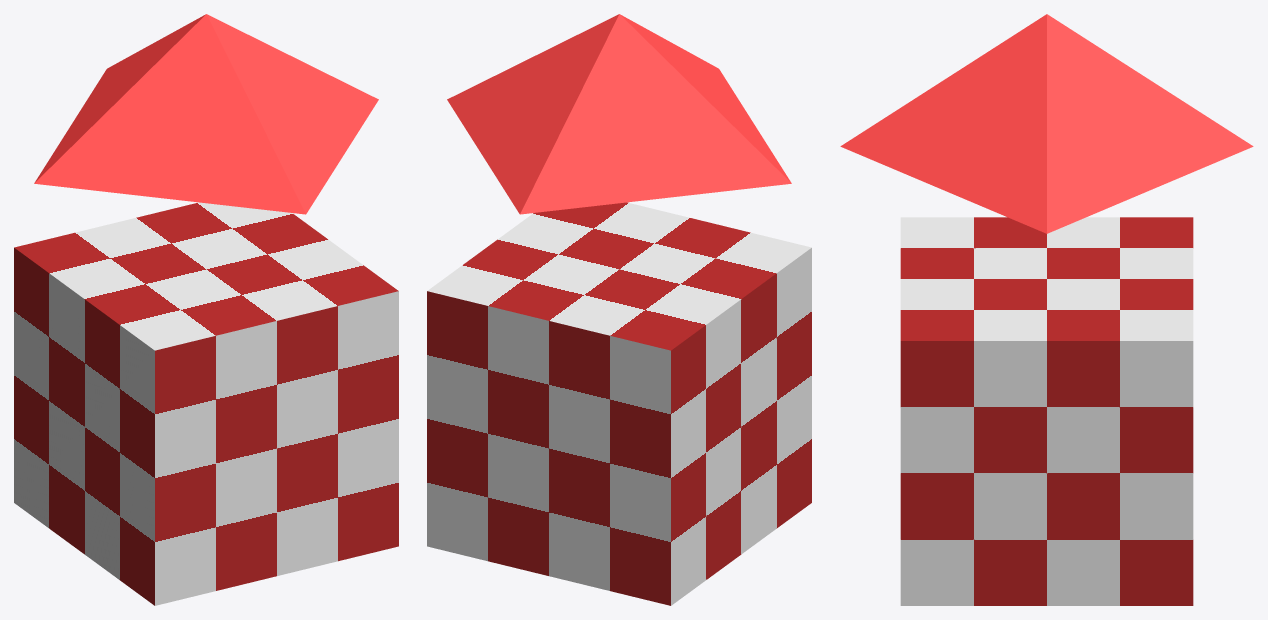
The model's file is tower.glb.
3 renders of one model, left to right at view 1: azimuth 30°, elevation 25°; view 2: azimuth 150°, elevation 25°; view 3: azimuth 270°, elevation 25°, orthographic. The views are drawn at different scales.
Parts seen in each view (by area): view 1: Base, Roof; view 2: Base, Roof; view 3: Base, Roof.
Boxes of the visible parts, x1,y1,x2,y2 form: Base: (14,202,398,605); Roof: (34,14,378,214); Base: (427,202,811,605); Roof: (447,14,791,214); Base: (900,217,1193,605); Roof: (840,14,1253,233).
Bounding box in the file's own units: 1.41 × 2 × 1.41.
Materials: 2 (1 with a texture image).
